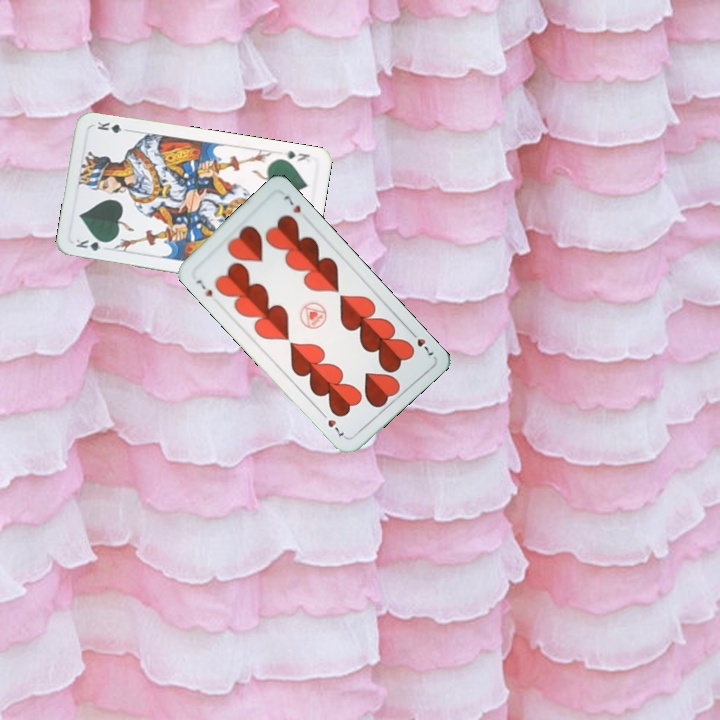GK: (72, 235, 111, 254), (280, 146, 312, 165)
H7: (405, 326, 437, 360), (192, 275, 215, 302)
